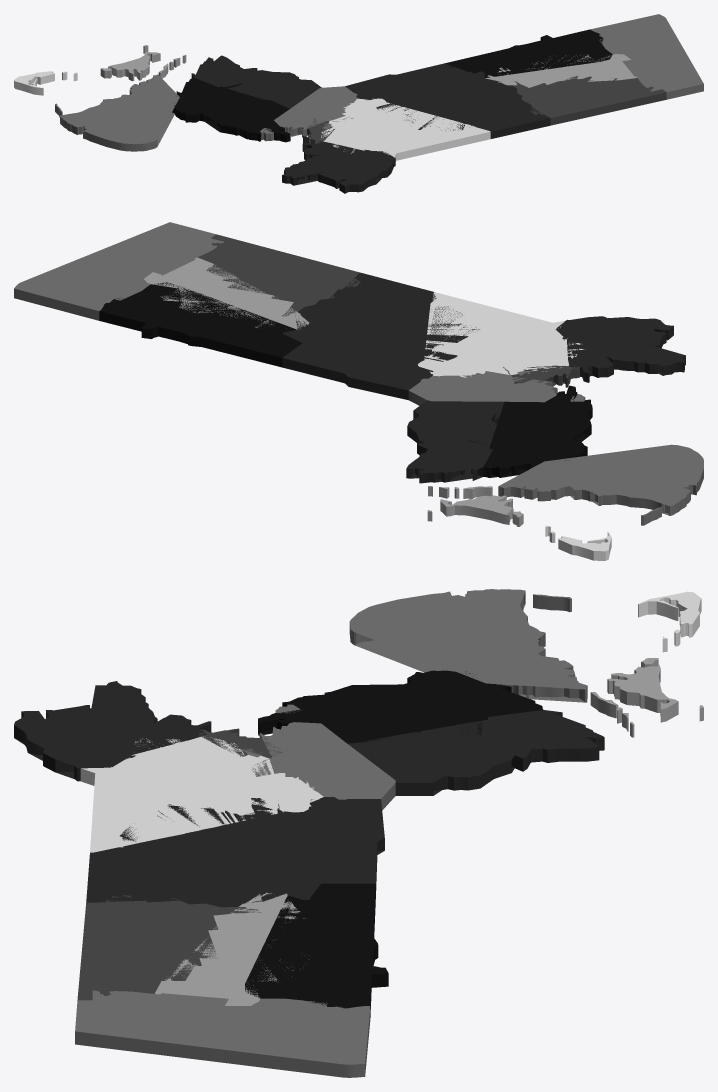
The model's file is Massachusetts_Counties_3D.fbx.
The picture shows the model from 3 angles, top to bottom: view 1: azimuth 30°, elevation 25°; view 2: azimuth 150°, elevation 25°; view 3: azimuth 270°, elevation 25°; orthographic projection. The views are drawn at different scales.
Visible parts, largest first — view 1: MA_Worcester_County_3D, MA_Middlesex_County_3D, MA_Barnstable_County_3D, MA_Berkshire_County_3D, MA_Franklin_County_3D, MA_Plymouth_County_3D, MA_Hampden_County_3D, MA_Essex_County_3D, MA_Bristol_County_3D, MA_Norfolk_County_3D, MA_Hampshire_County_3D, MA_Dukes_County_3D (+2 smaller); view 2: MA_Worcester_County_3D, MA_Barnstable_County_3D, MA_Berkshire_County_3D, MA_Hampden_County_3D, MA_Middlesex_County_3D, MA_Plymouth_County_3D, MA_Bristol_County_3D, MA_Franklin_County_3D, MA_Essex_County_3D, MA_Hampshire_County_3D, MA_Norfolk_County_3D, MA_Dukes_County_3D (+2 smaller); view 3: MA_Worcester_County_3D, MA_Berkshire_County_3D, MA_Barnstable_County_3D, MA_Middlesex_County_3D, MA_Hampden_County_3D, MA_Bristol_County_3D, MA_Plymouth_County_3D, MA_Franklin_County_3D, MA_Essex_County_3D, MA_Norfolk_County_3D, MA_Hampshire_County_3D, MA_Dukes_County_3D (+2 smaller).
Boxes of the visible parts, x1,y1,x2,y2 form: MA_Worcester_County_3D: (345,63,550,138); MA_Middlesex_County_3D: (321,98,490,161); MA_Barnstable_County_3D: (55,74,179,151); MA_Berkshire_County_3D: (590,14,703,99); MA_Franklin_County_3D: (512,75,666,125); MA_Plymouth_County_3D: (172,78,290,142); MA_Hampden_County_3D: (445,29,612,78); MA_Essex_County_3D: (282,141,395,193); MA_Bristol_County_3D: (191,55,321,108); MA_Norfolk_County_3D: (260,86,358,141); MA_Hampshire_County_3D: (485,54,637,87); MA_Dukes_County_3D: (100,45,186,81); MA_Worcester_County_3D: (282,272,479,399); MA_Barnstable_County_3D: (498,444,703,525); MA_Berkshire_County_3D: (14,222,224,320); MA_Hampden_County_3D: (99,282,302,367); MA_Middlesex_County_3D: (418,292,584,377); MA_Plymouth_County_3D: (468,385,592,477); MA_Bristol_County_3D: (406,400,504,483); MA_Franklin_County_3D: (197,234,360,316); MA_Essex_County_3D: (555,316,685,382); MA_Hampshire_County_3D: (144,257,309,329); MA_Norfolk_County_3D: (408,367,585,405); MA_Dukes_County_3D: (427,486,523,526); MA_Worcester_County_3D: (86,797,384,907); MA_Berkshire_County_3D: (75,990,370,1077); MA_Barnstable_County_3D: (349,589,587,702); MA_Middlesex_County_3D: (80,736,323,852); MA_Hampden_County_3D: (245,883,388,1017); MA_Bristol_County_3D: (347,710,604,795); MA_Plymouth_County_3D: (258,670,543,743); MA_Franklin_County_3D: (77,895,260,1000); MA_Essex_County_3D: (14,681,211,781); MA_Norfolk_County_3D: (240,704,395,810); MA_Hampshire_County_3D: (154,892,309,1005); MA_Dukes_County_3D: (590,658,703,737).
Bounding box in the file's own units: 777 × 10 × 476.
